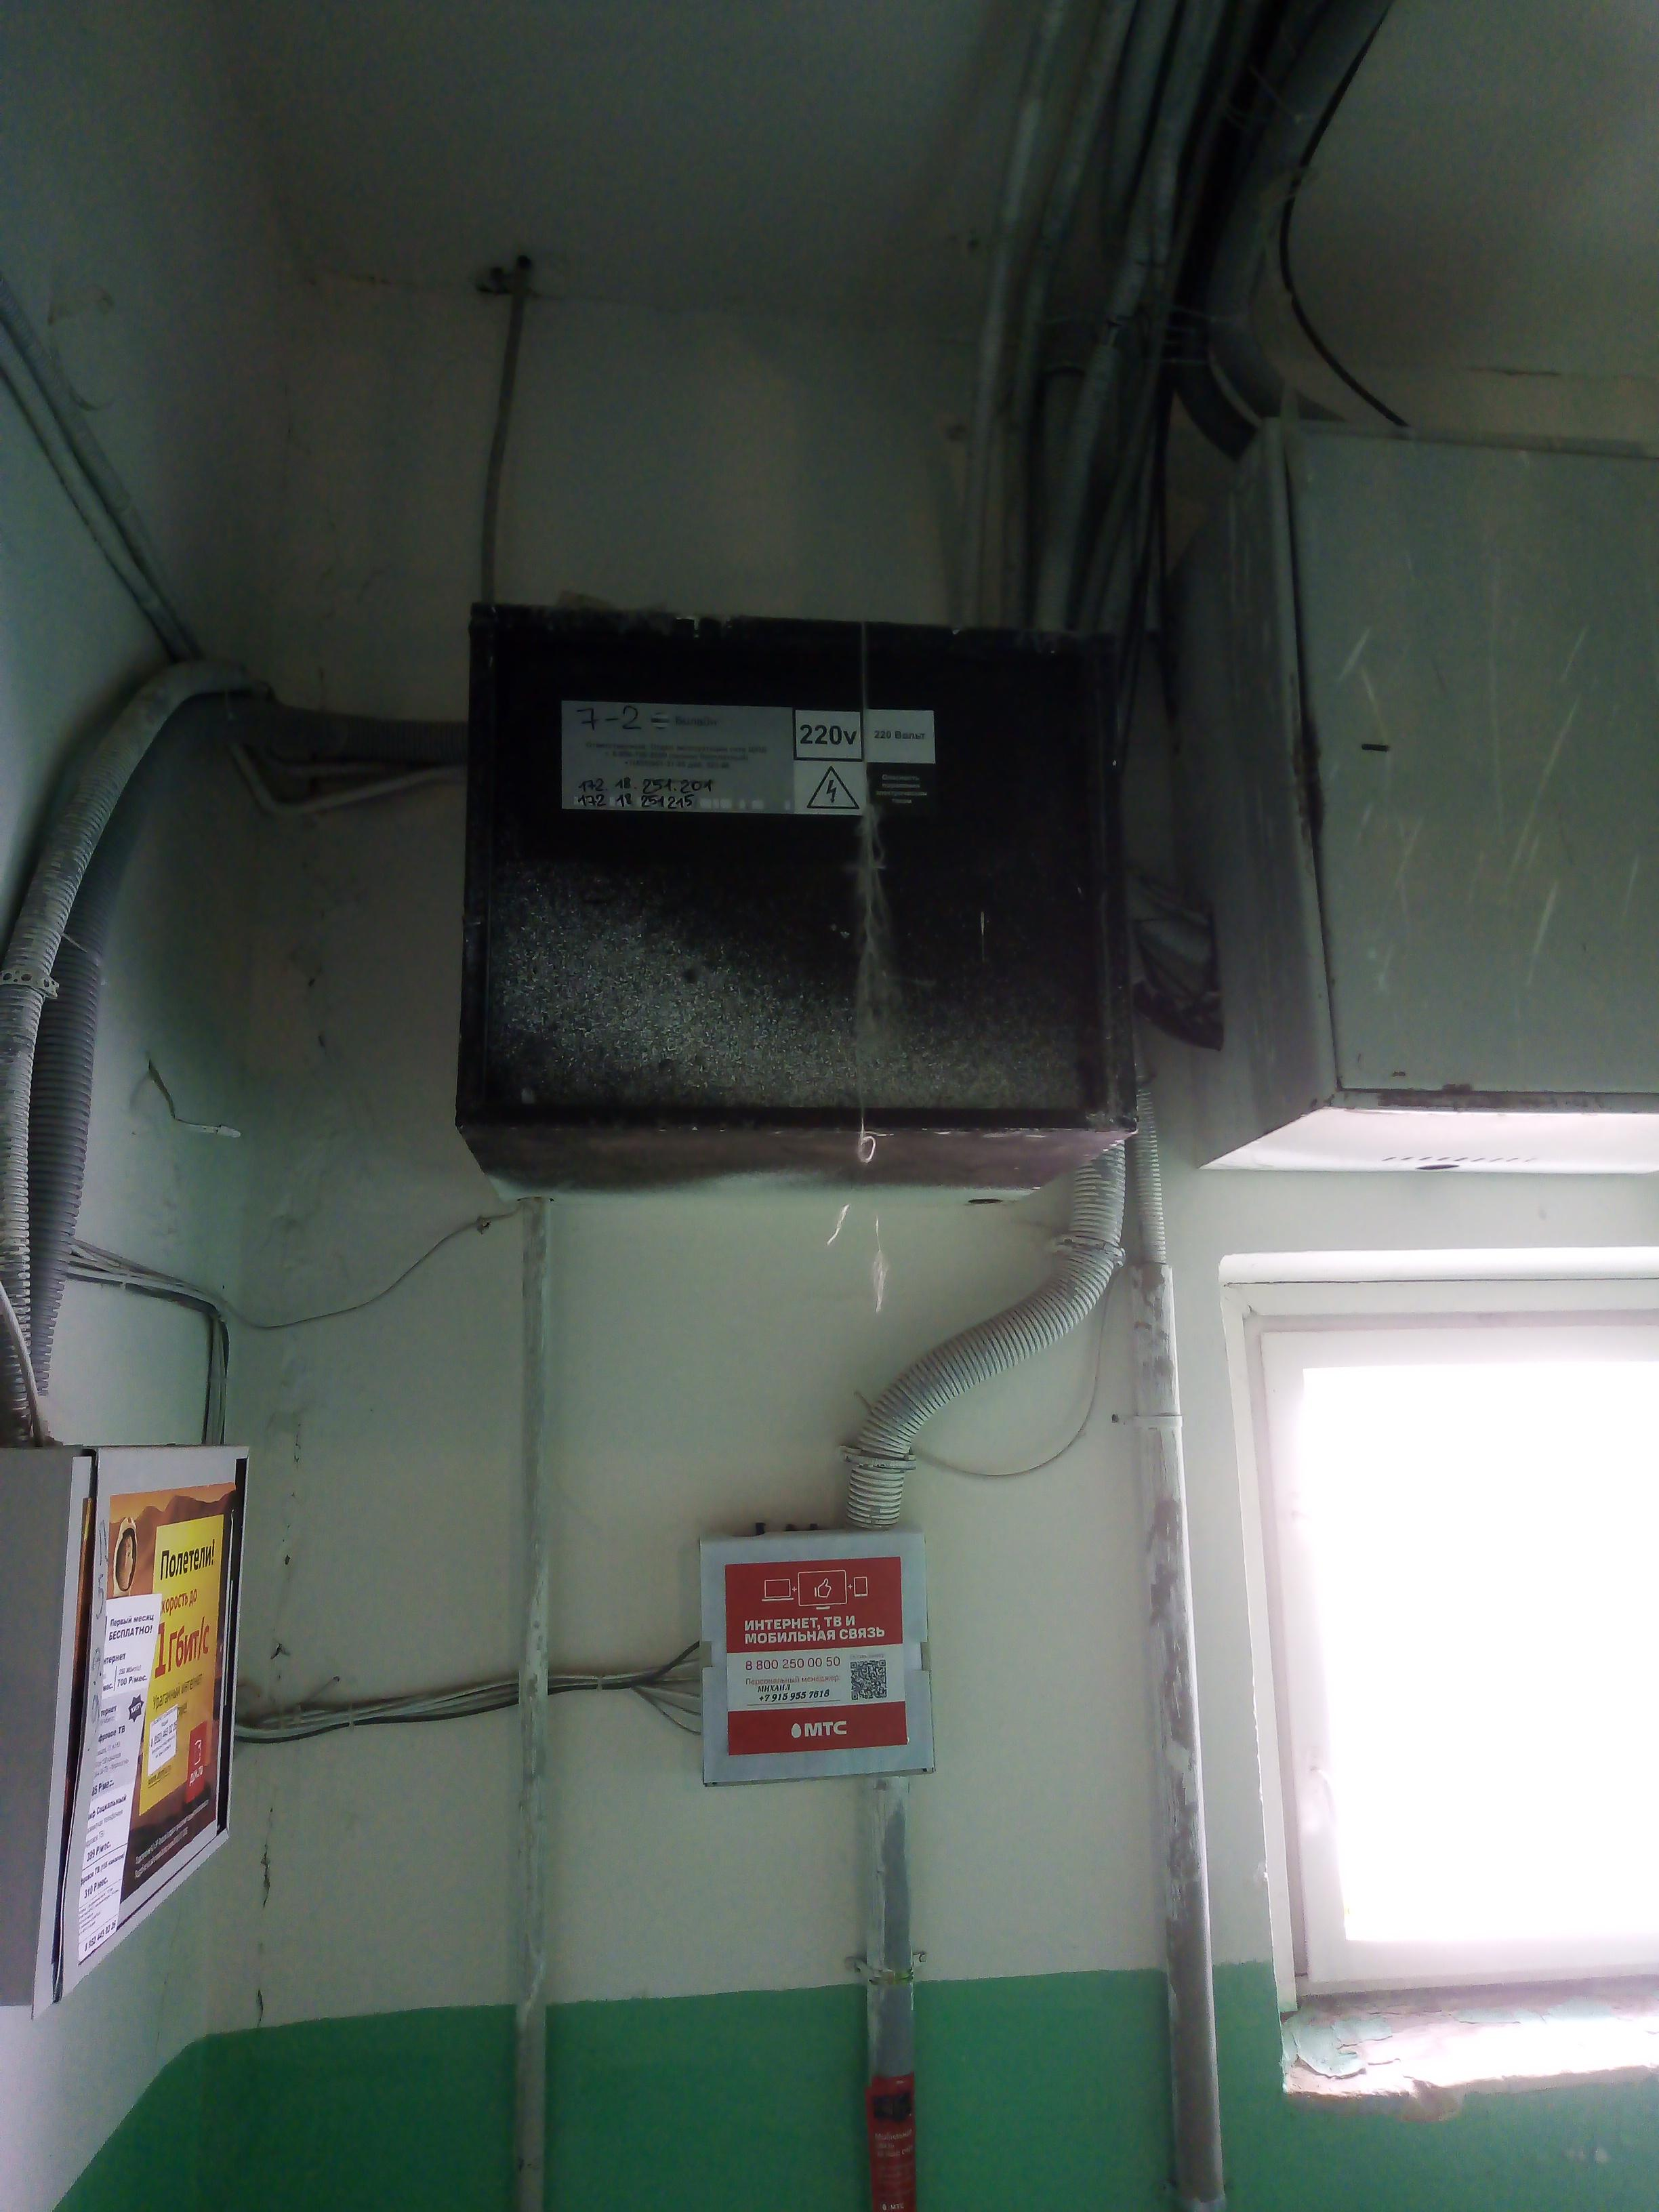shta-9m: (439, 590, 1154, 1217)
